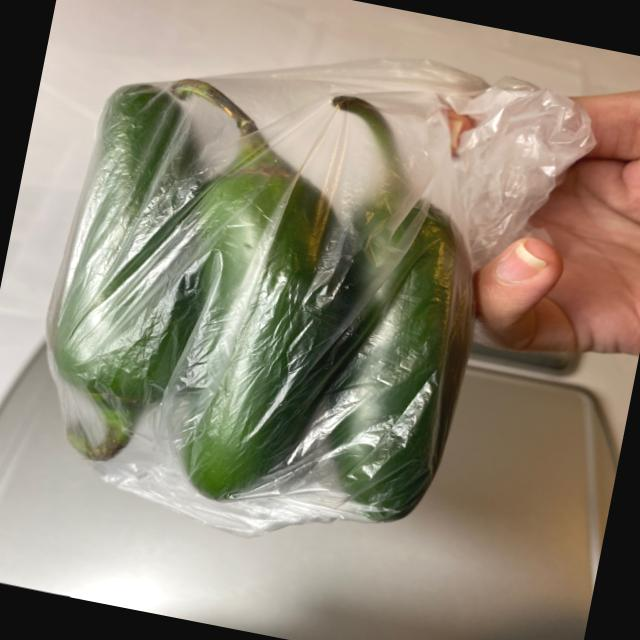chilli: (13, 29, 534, 553)
